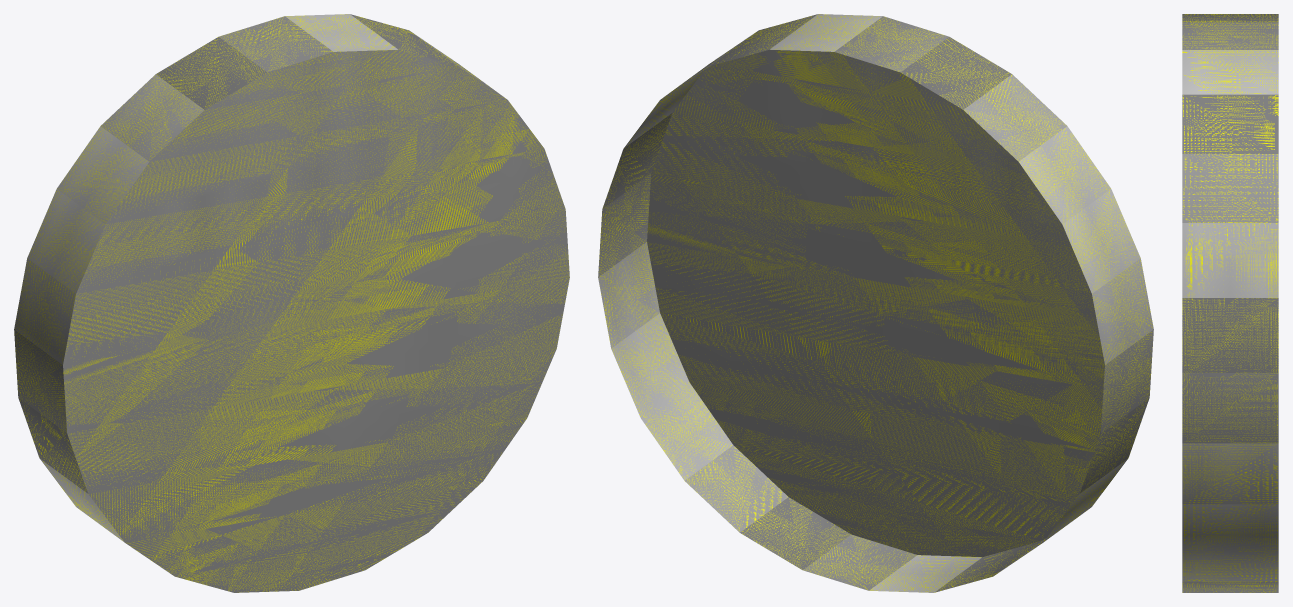
File: original-51.obj
3 views of the same model, side by side, from view 1: azimuth 30°, elevation 25°; view 2: azimuth 150°, elevation 25°; view 3: azimuth 270°, elevation 25° (orthographic).
Parts seen in each view (by area): view 1: Group4/mesh3/mesh3-geometry/material_7#mesh3-geometry; view 2: Group4/mesh3/mesh3-geometry/material_7#mesh3-geometry; view 3: Group4/mesh3/mesh3-geometry/material_7#mesh3-geometry.
Part boxes in pixels (x1,y1,x2,y2): Group4/mesh3/mesh3-geometry/material_7#mesh3-geometry: (14,14,569,592); Group4/mesh3/mesh3-geometry/material_7#mesh3-geometry: (598,14,1153,592); Group4/mesh3/mesh3-geometry/material_7#mesh3-geometry: (1182,14,1278,592).
Bounding box in the file's own units: 0.1332 × 0.1332 × 0.0223.
2 materials, 1 textured.
